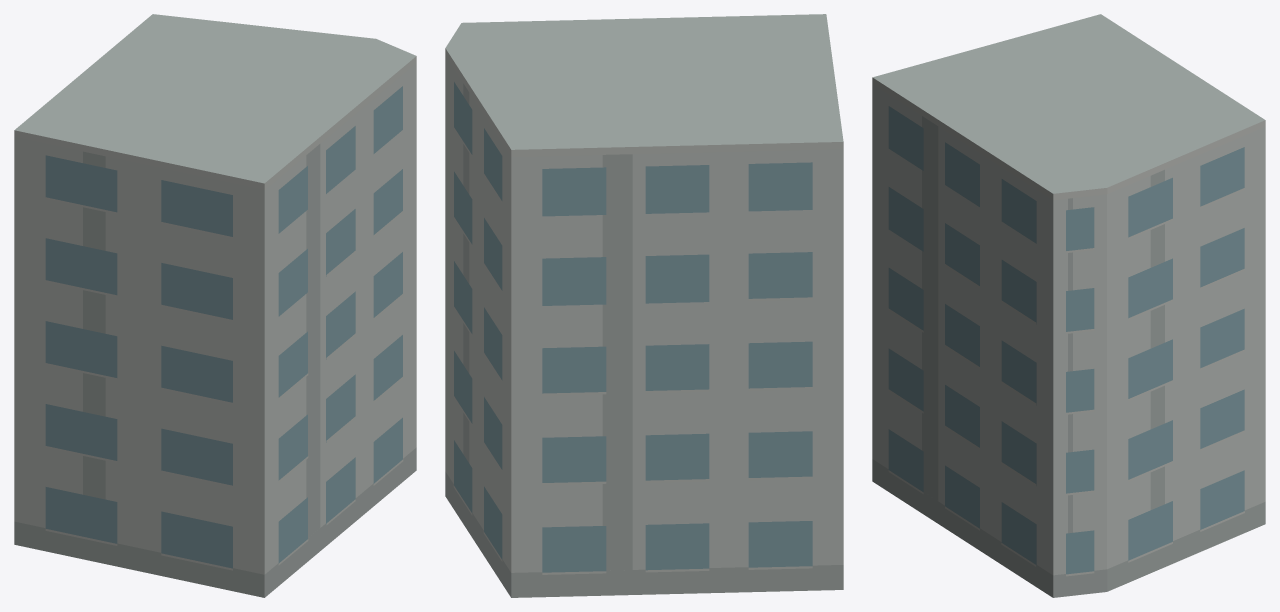
Rendered from residential-1ed8f591-555f-4364-a9eb-4c8485dcdd67.glb.
The picture shows the model from 3 angles, left to right: view 1: azimuth 30°, elevation 25°; view 2: azimuth 150°, elevation 25°; view 3: azimuth 270°, elevation 25°; orthographic projection. The views are drawn at different scales.
Parts seen in each view (by area): view 1: residential-1ed8f591-555f-4364-a9eb-4c8485dcdd67.tmp; view 2: residential-1ed8f591-555f-4364-a9eb-4c8485dcdd67.tmp; view 3: residential-1ed8f591-555f-4364-a9eb-4c8485dcdd67.tmp.
Part boxes in pixels (x1,y1,x2,y2): residential-1ed8f591-555f-4364-a9eb-4c8485dcdd67.tmp: [14, 14, 416, 597]; residential-1ed8f591-555f-4364-a9eb-4c8485dcdd67.tmp: [445, 14, 843, 597]; residential-1ed8f591-555f-4364-a9eb-4c8485dcdd67.tmp: [872, 14, 1265, 597].
Bounding box in the file's own units: 14.42 × 15.1 × 13.32.
